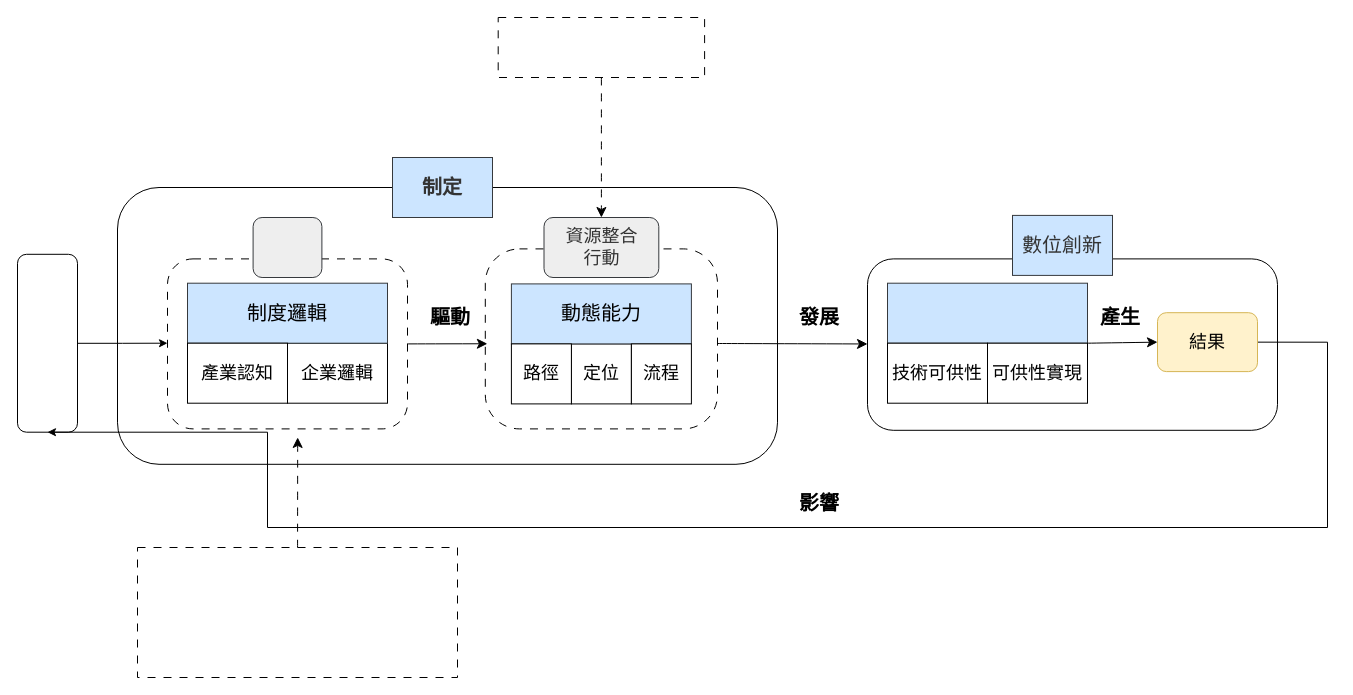
Image size: 1353x695. Some labels were removed from this diagram. Each missing label, with the centre of its shape:
"frontier的行動 資源編排與資源整合行動" belongs at point (601, 47).
"環 境" belongs at point (47, 342).
"科技可供性" belongs at point (987, 312).
"認知" belongs at point (287, 247).
"透過分析紡織產業認知，包含產業文化、信念、價值觀、現有痛點等來制定企業邏輯，並說明不同階段之 制度邏輯中影響企業決策與行動" belongs at point (297, 612).
